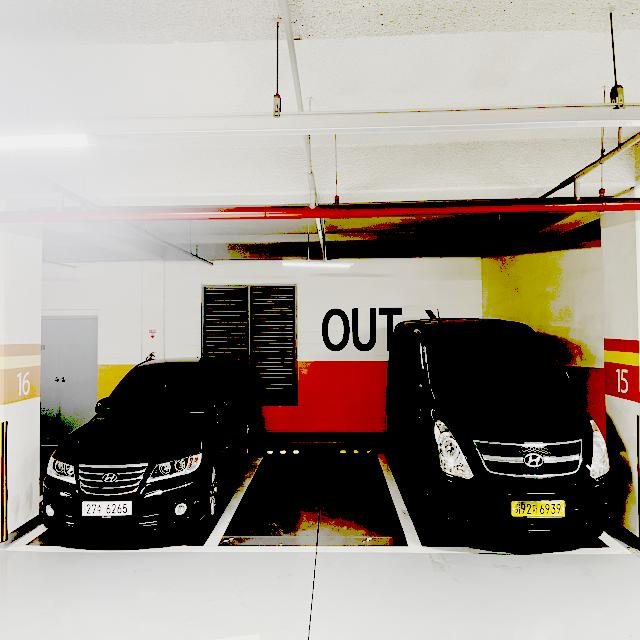empty: (199, 442, 428, 565)
occupied: (389, 309, 623, 566), (43, 342, 218, 563)
